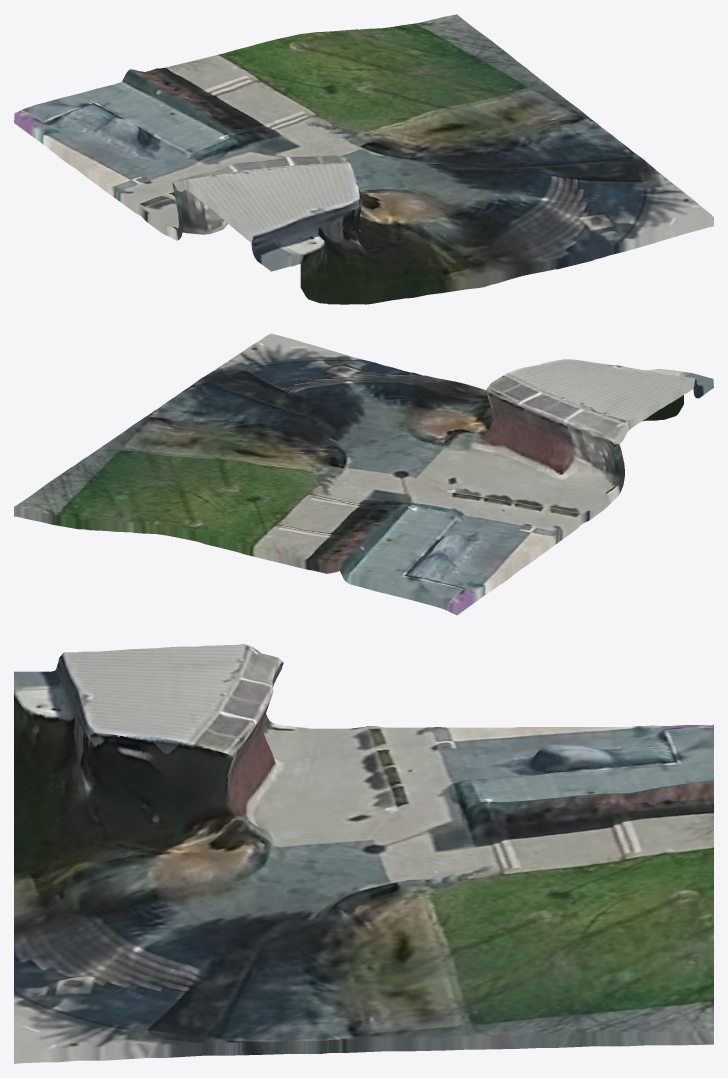
The model's file is z20-167751-405247-h0-yup-uvflip-v3-world.glb.
3 renders of one model, top to bottom at view 1: azimuth 30°, elevation 25°; view 2: azimuth 150°, elevation 25°; view 3: azimuth 270°, elevation 25°, orthographic. The views are drawn at different scales.
Size of the model in its own units: 30.2 by 6.32 by 30.32.
Materials: 1 (1 with a texture image).
